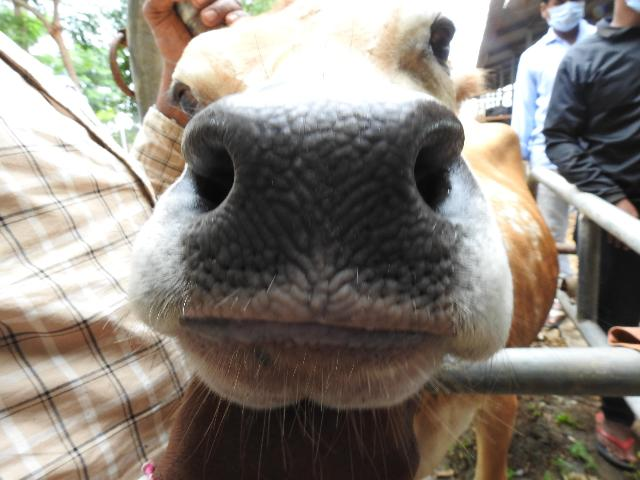Muzzle: (232, 109, 414, 317)
